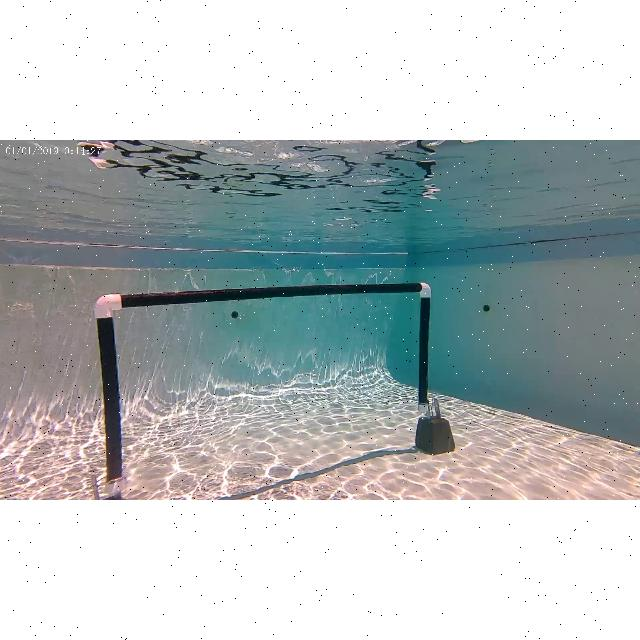prequal gate: (91, 281, 433, 494)
prequal gate leg l: (93, 285, 129, 499)
prequal gate leg r: (411, 275, 435, 419)
